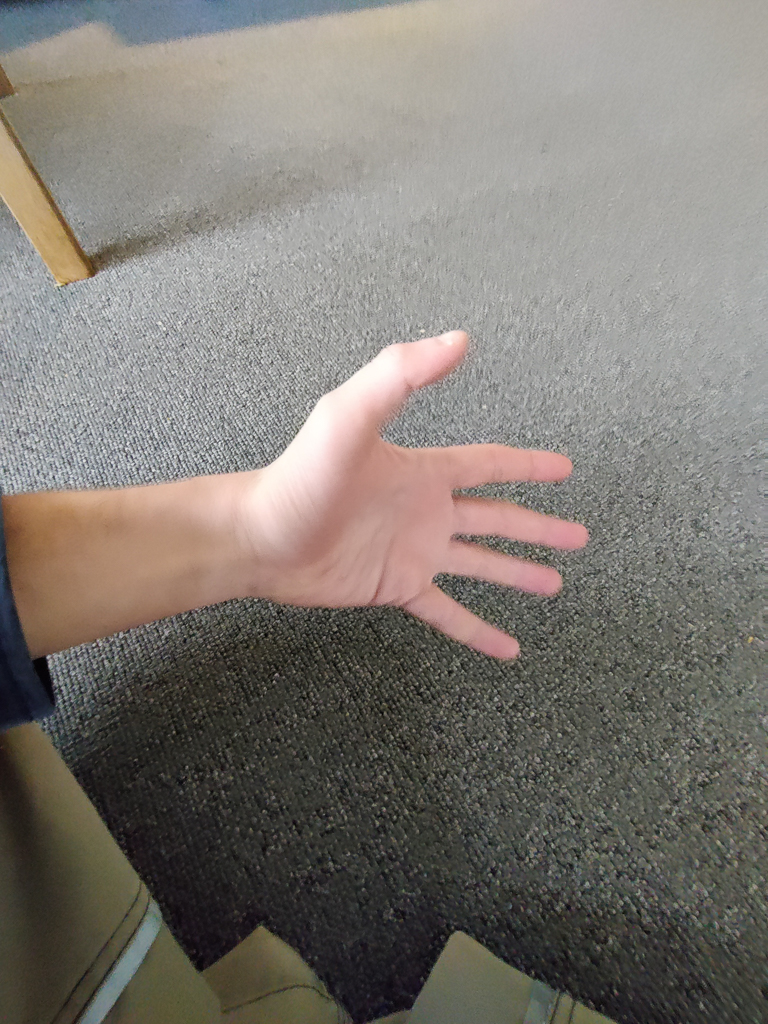Humanoid: (0, 324, 659, 1024)
